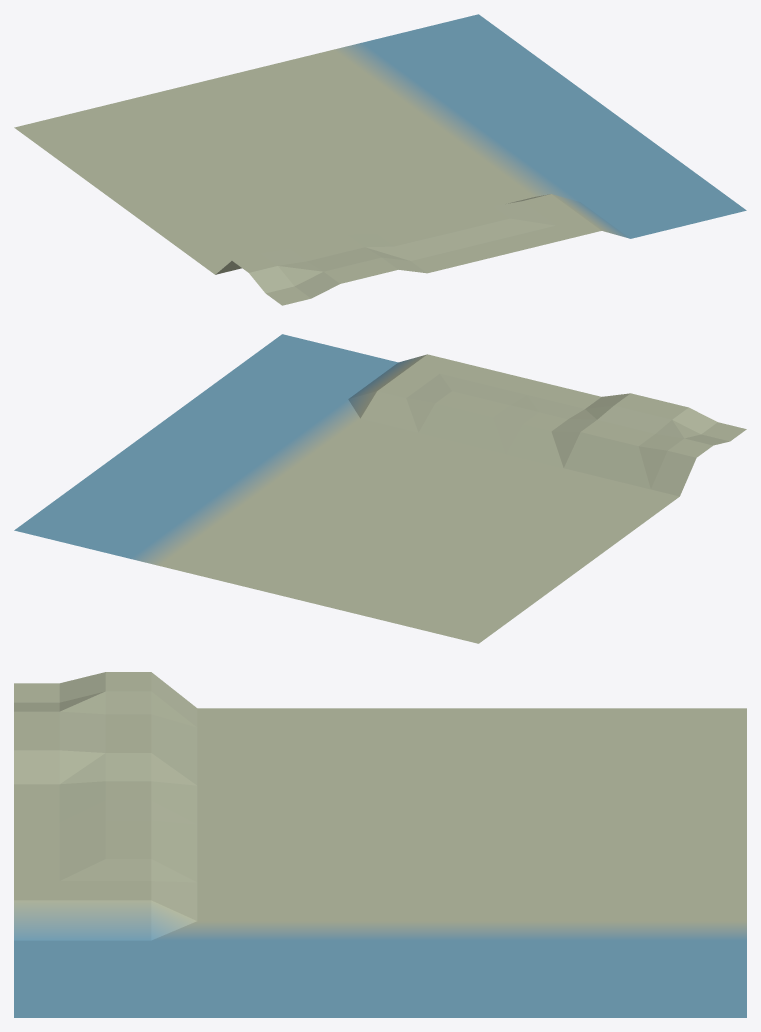
3 views of the same model, one above another, from view 1: azimuth 30°, elevation 25°; view 2: azimuth 150°, elevation 25°; view 3: azimuth 270°, elevation 25° (orthographic). The views are drawn at different scales.
Size of the model in its own units: 32 by 1.74 by 32.
